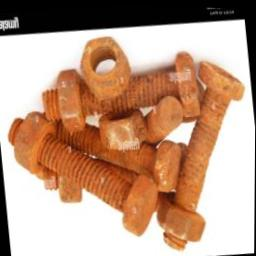Corroded-Nut-and-Bolt: (7, 34, 245, 249)
